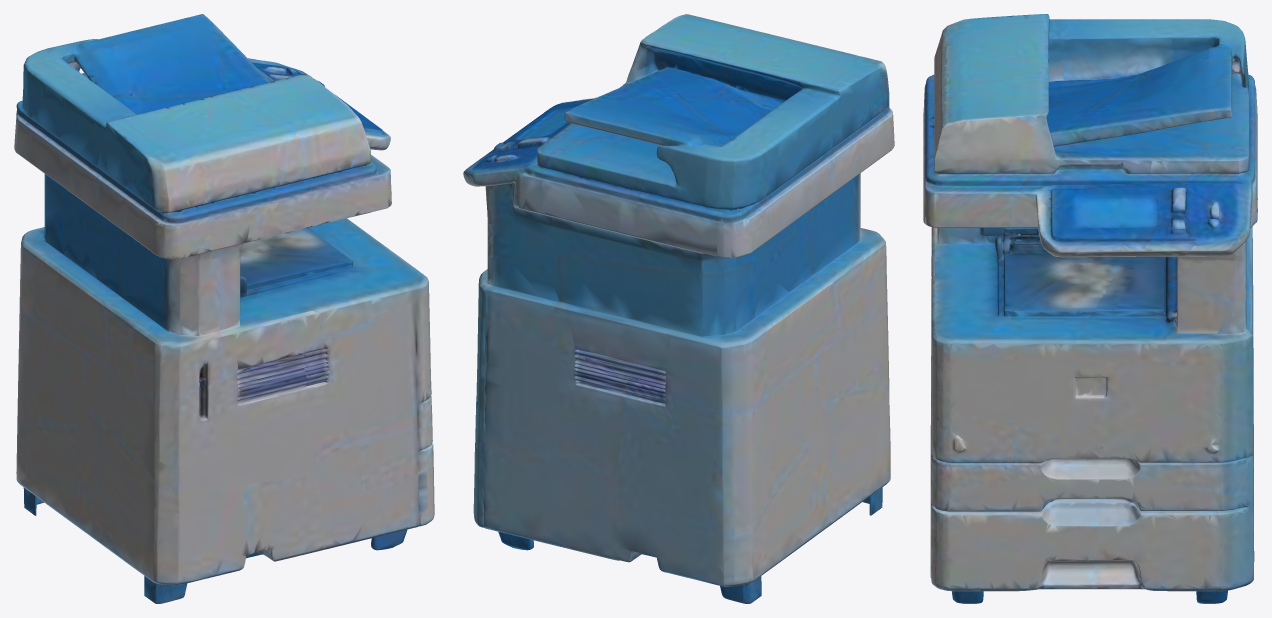
Rendered from printer_copier.glb.
The picture shows the model from 3 angles, left to right: view 1: azimuth 30°, elevation 25°; view 2: azimuth 150°, elevation 25°; view 3: azimuth 270°, elevation 25°; orthographic projection. The views are drawn at different scales.
Visible parts, largest first — view 1: tripo_node_b90c5605-afe6-4556-8529-c68b18c232fb; view 2: tripo_node_b90c5605-afe6-4556-8529-c68b18c232fb; view 3: tripo_node_b90c5605-afe6-4556-8529-c68b18c232fb.
Part boxes in pixels (x1,y1,x2,y2): tripo_node_b90c5605-afe6-4556-8529-c68b18c232fb: [14, 14, 434, 603]; tripo_node_b90c5605-afe6-4556-8529-c68b18c232fb: [463, 14, 894, 603]; tripo_node_b90c5605-afe6-4556-8529-c68b18c232fb: [923, 14, 1257, 603].
Bounding box in the file's own units: 0.6707 × 1 × 0.6497.
Materials: 1 (1 with a texture image).
